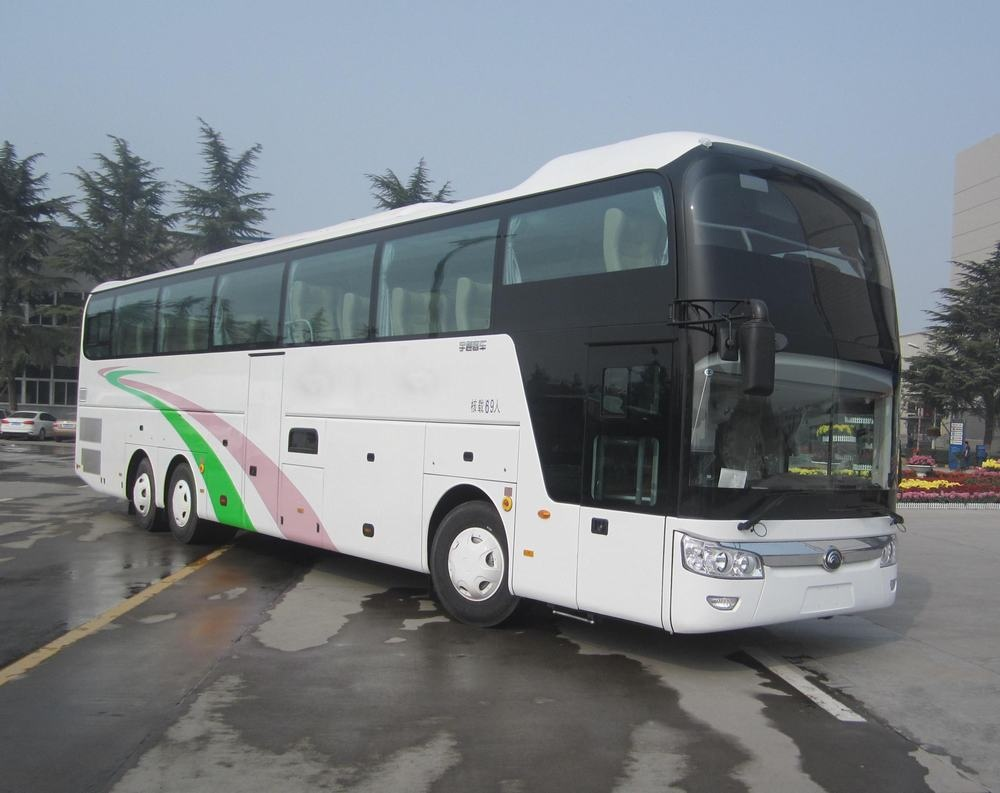bus: (52, 157, 942, 647)
